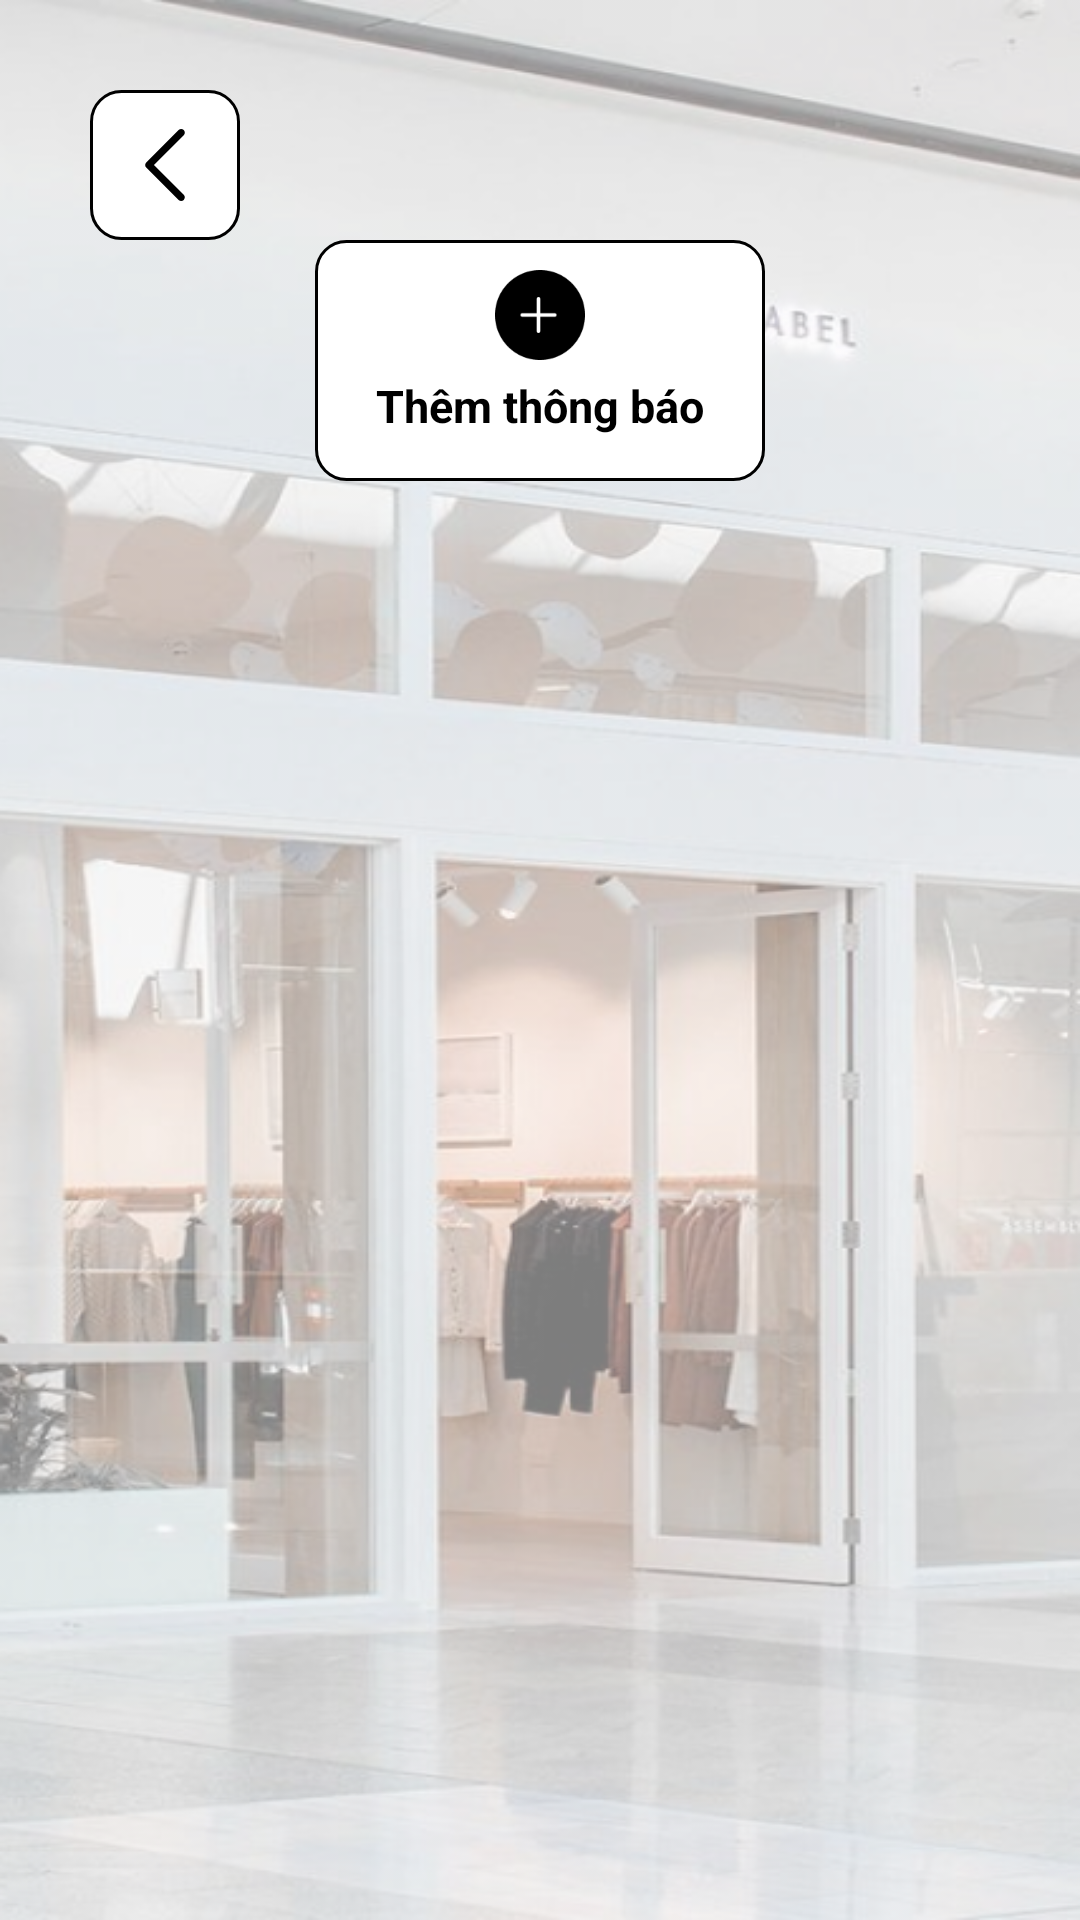

Point at icon controls on the screen. Image size 1080px x 1920px, points as (x=x, y=y).
back: (x=165, y=165)
